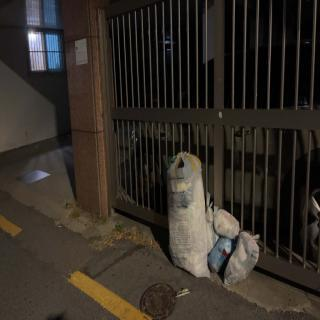Garbage: (165, 150, 211, 279), (229, 228, 262, 283), (206, 231, 234, 274), (213, 205, 241, 240)
